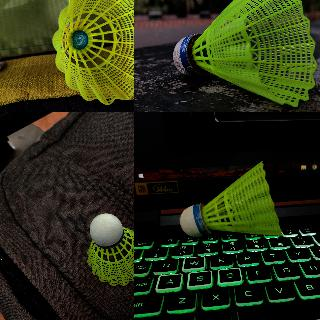shuttlecock: (172, 0, 318, 109), (50, 0, 133, 105), (179, 160, 285, 236), (85, 213, 133, 286)
